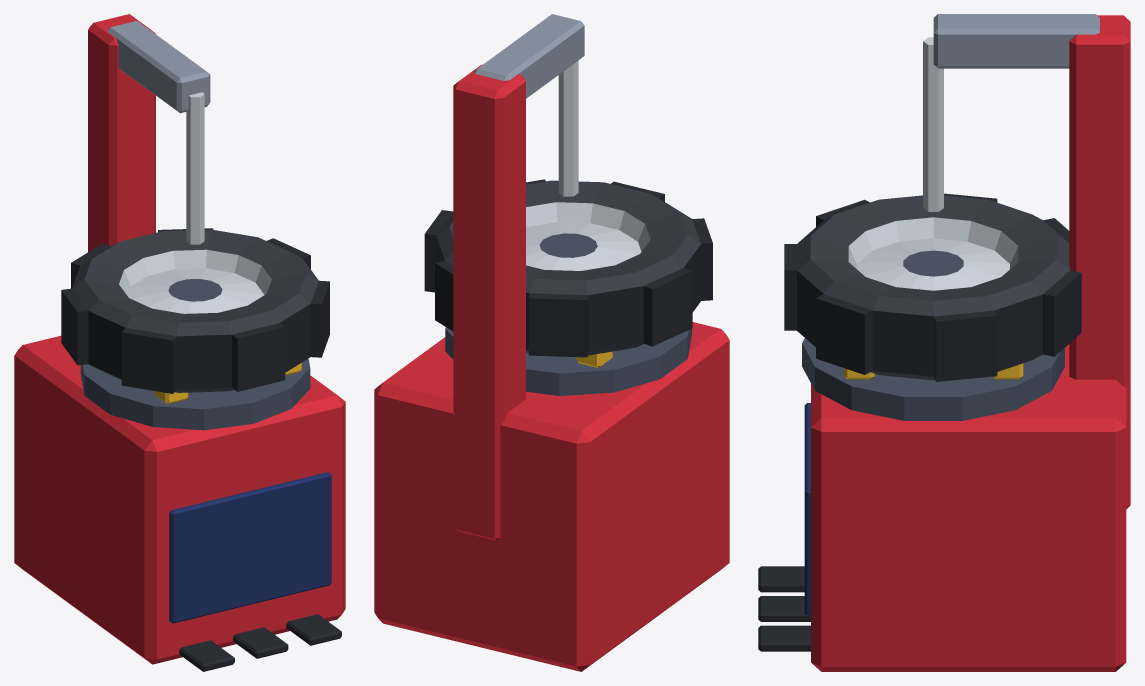
The model's file is TireChanger.fbx.
3 views of the same model, side by side, from view 1: azimuth 30°, elevation 25°; view 2: azimuth 150°, elevation 25°; view 3: azimuth 270°, elevation 25° (orthographic). The views are drawn at different scales.
Parts seen in each view (by area): view 1: TireChanger; view 2: TireChanger; view 3: TireChanger.
Part boxes in pixels (box(x1,y1,x2,y2)): TireChanger: box(14, 14, 345, 671); TireChanger: box(374, 14, 729, 671); TireChanger: box(758, 14, 1130, 671).
Bounding box in the file's own units: 3.48 × 7.55 × 4.25.
1 material, 1 textured.
